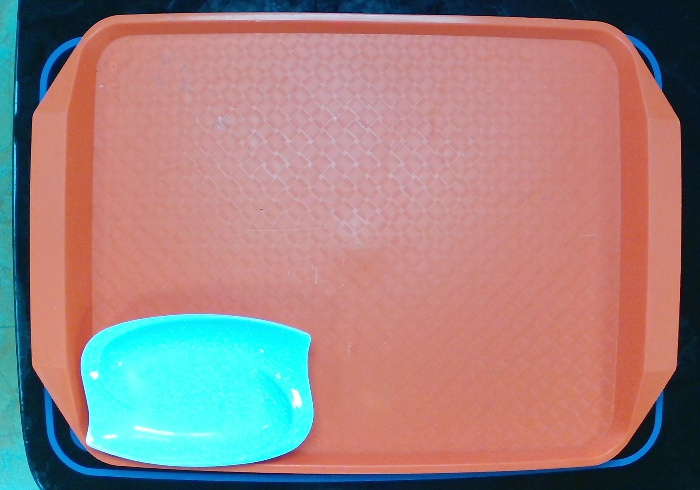RJxy-Jian_Jiao_Fang_Die: (80, 314, 321, 470)
